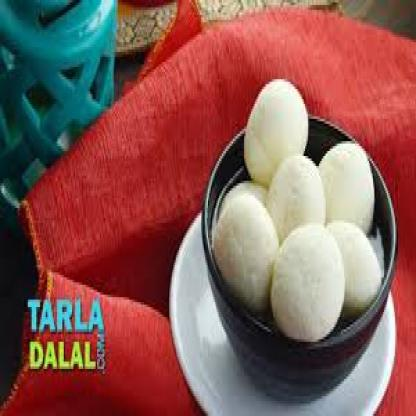rasgulla: (272, 224, 346, 342), (214, 192, 279, 311), (244, 79, 308, 184), (265, 155, 326, 245), (325, 220, 382, 314), (319, 140, 375, 234), (219, 183, 268, 208)
